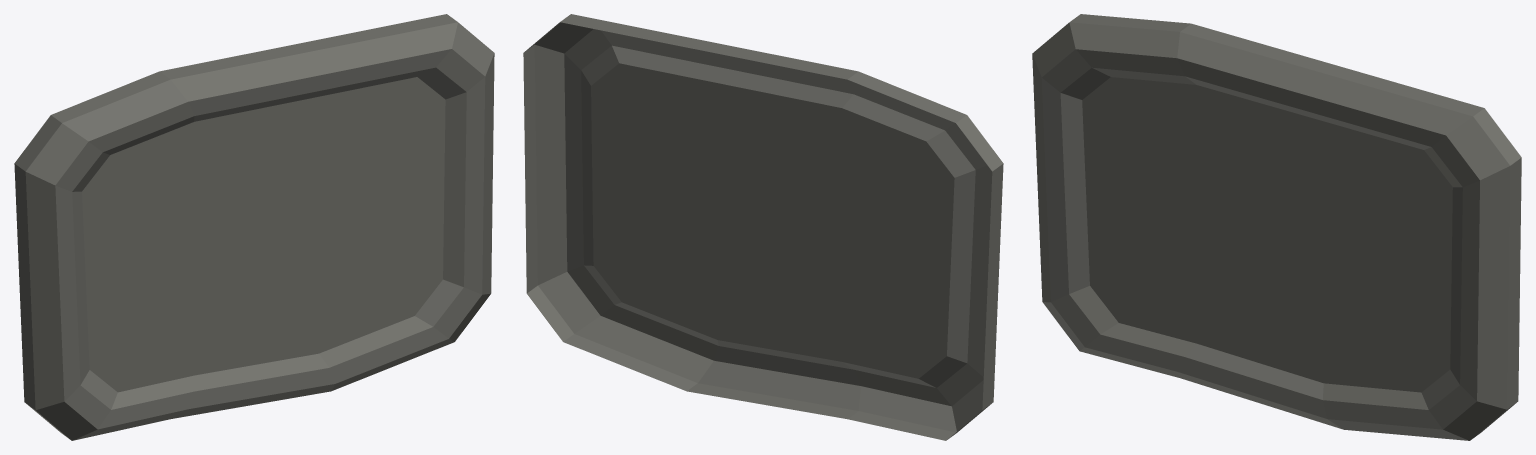
The model's file is SwitchSecret_Base.glb.
3 renders of one model, left to right at view 1: azimuth 30°, elevation 25°; view 2: azimuth 150°, elevation 25°; view 3: azimuth 330°, elevation 25°, orthographic.
Visible parts, largest first — view 1: SwitchSecret_Base.001; view 2: SwitchSecret_Base.001; view 3: SwitchSecret_Base.001.
Boxes of the visible parts, <box> form: SwitchSecret_Base.001: <box>14,14,494,440</box>; SwitchSecret_Base.001: <box>523,14,1003,440</box>; SwitchSecret_Base.001: <box>1032,14,1521,440</box>.
Size of the model in its own units: 0.4953 by 0.3543 by 0.0392.
Materials: 1 (1 with a texture image).
